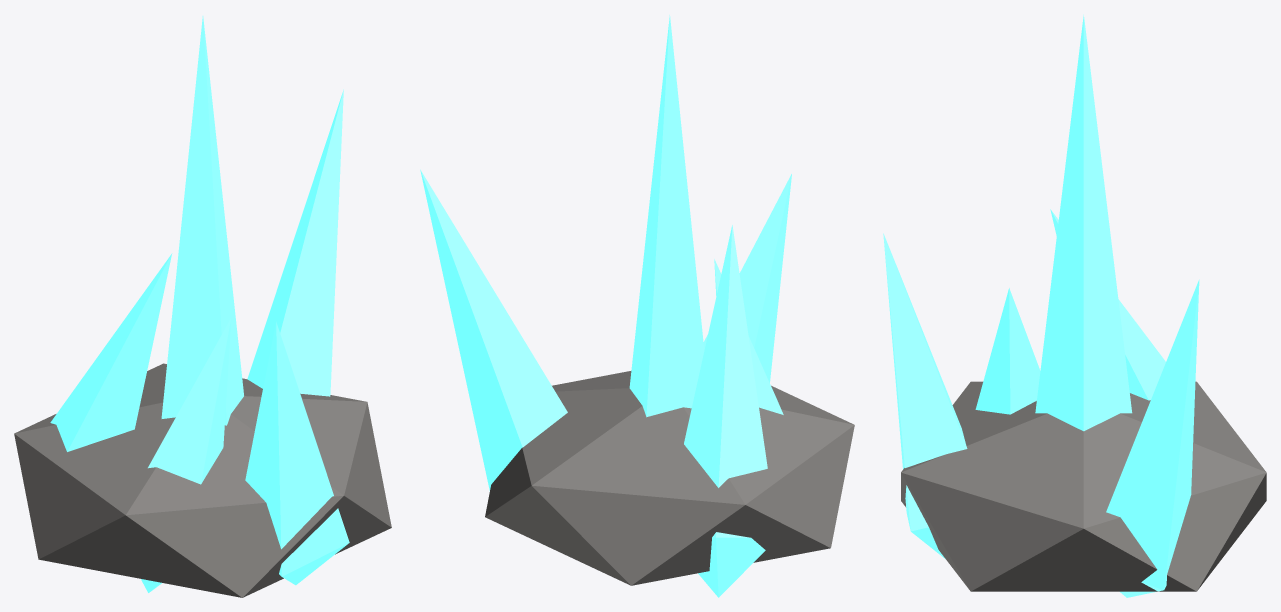
The model's file is crystals.glb.
3 renders of one model, left to right at view 1: azimuth 30°, elevation 25°; view 2: azimuth 150°, elevation 25°; view 3: azimuth 270°, elevation 25°, orthographic. The views are drawn at different scales.
Parts seen in each view (by area): view 1: crystals_prop; view 2: crystals_prop; view 3: crystals_prop.
Part boxes in pixels (x1,y1,x2,y2): crystals_prop: (14, 16, 391, 597); crystals_prop: (420, 15, 854, 597); crystals_prop: (883, 14, 1266, 597).
Bounding box in the file's own units: 0.7884 × 1.15 × 0.7133.
